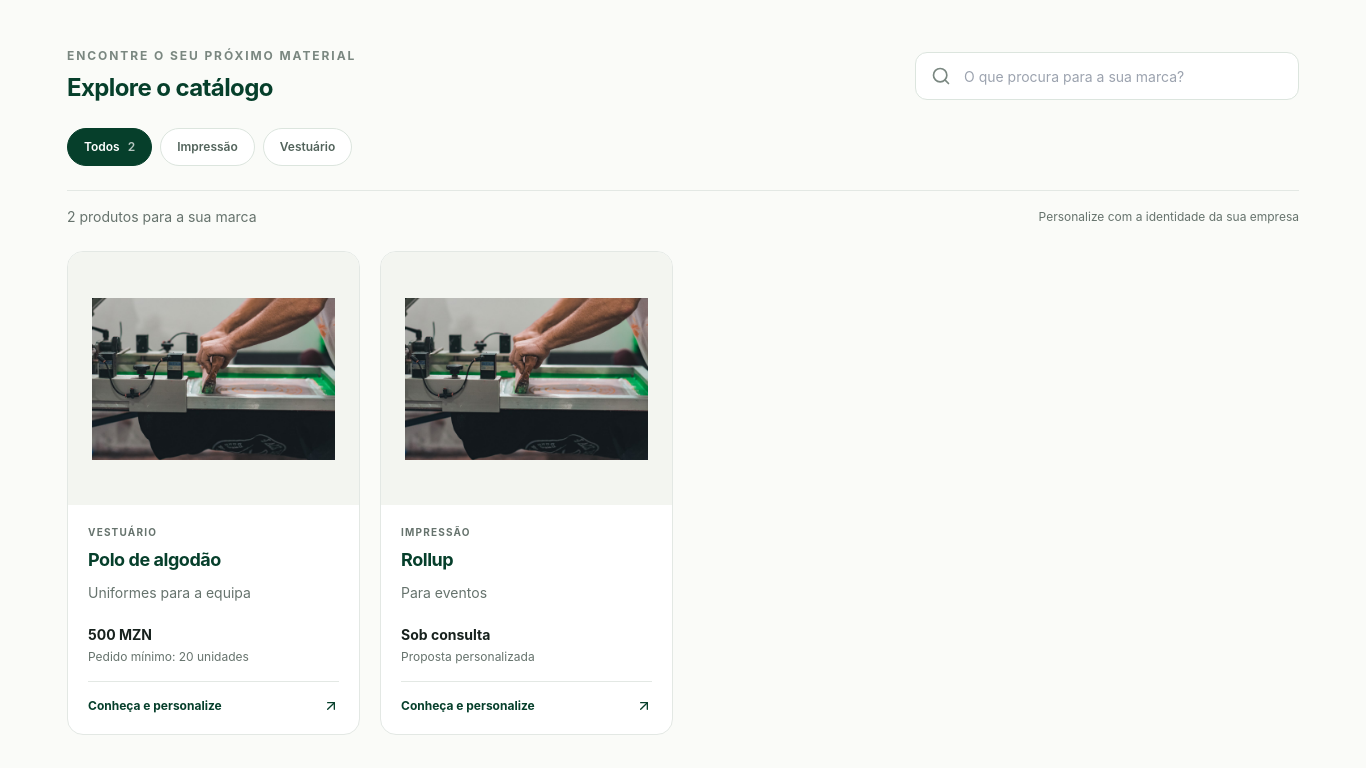
Test: Catalogue experience › uses published categories and searches without requiring accents
Expected: the link "Vestuário" is shown, [263,128,352,166]
Type "algodao" into the search field at (1107, 76), box [915,52,1299,100]
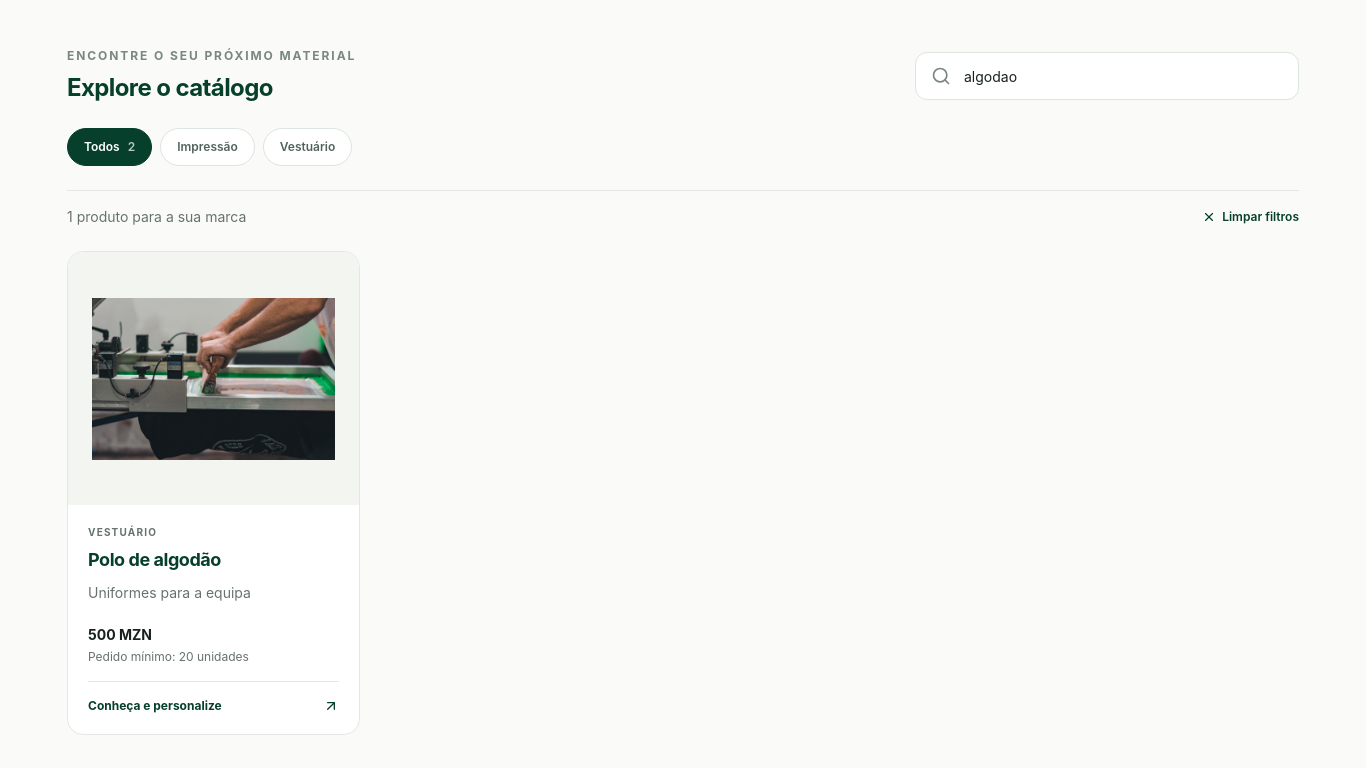
Expected: the message shows "1 produto", [67,208,246,225]
Expected: the link "Rollup" is gone
